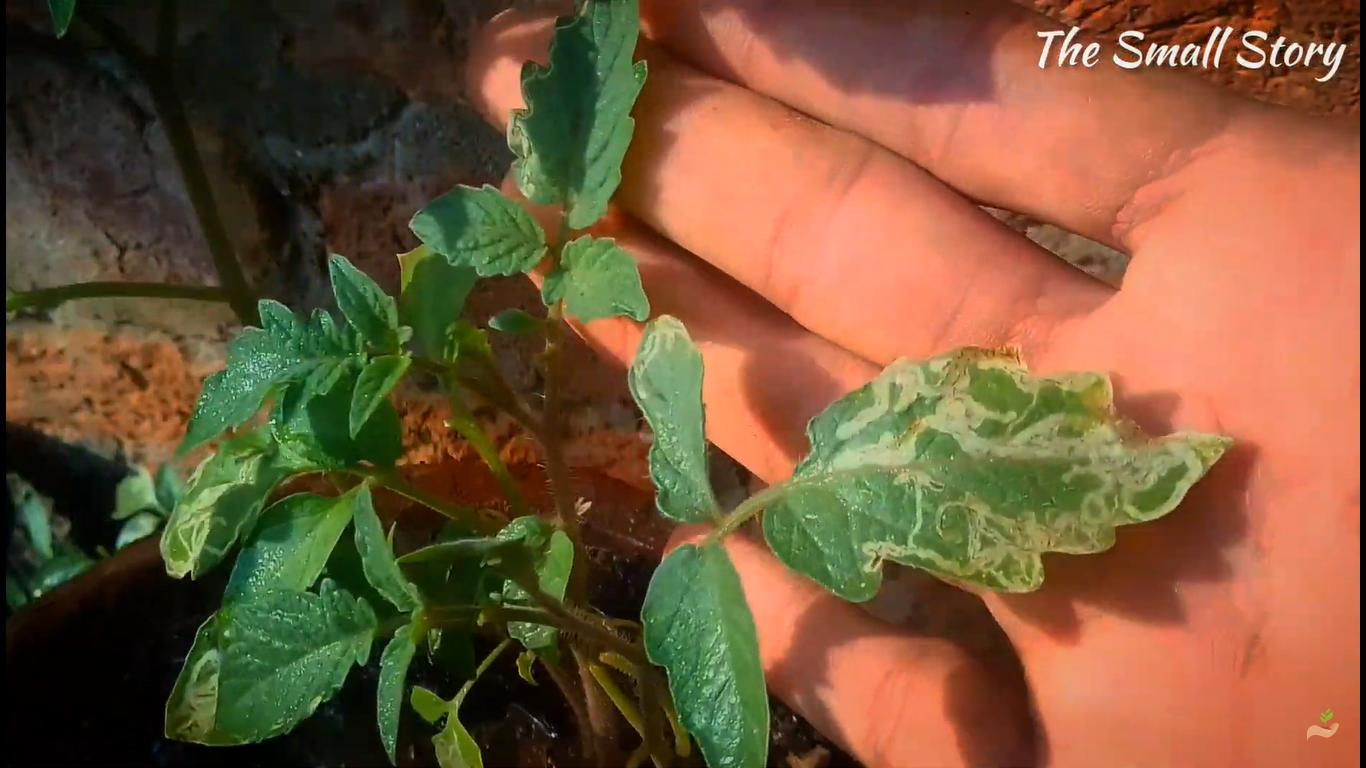Healthy: (634, 532, 770, 768), (168, 296, 354, 456), (400, 183, 545, 281), (536, 234, 649, 324), (324, 246, 418, 353)
Leaf_Miner: (759, 336, 1239, 608), (154, 571, 379, 750), (505, 0, 652, 235), (158, 421, 309, 581), (621, 314, 718, 526)
